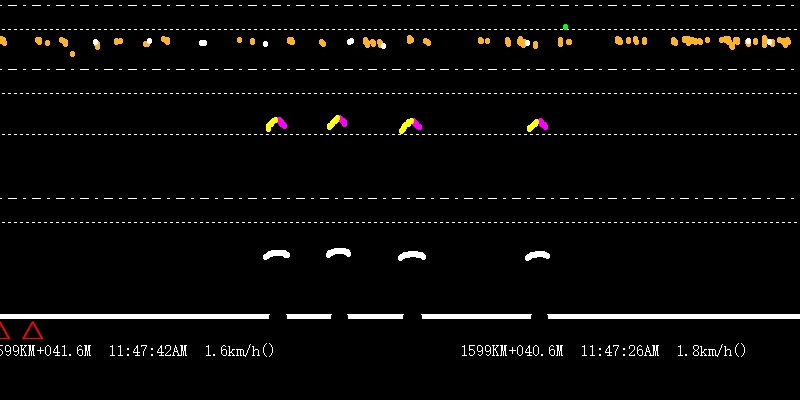L: (259, 106, 552, 271)
face_up: (562, 19, 569, 33)
